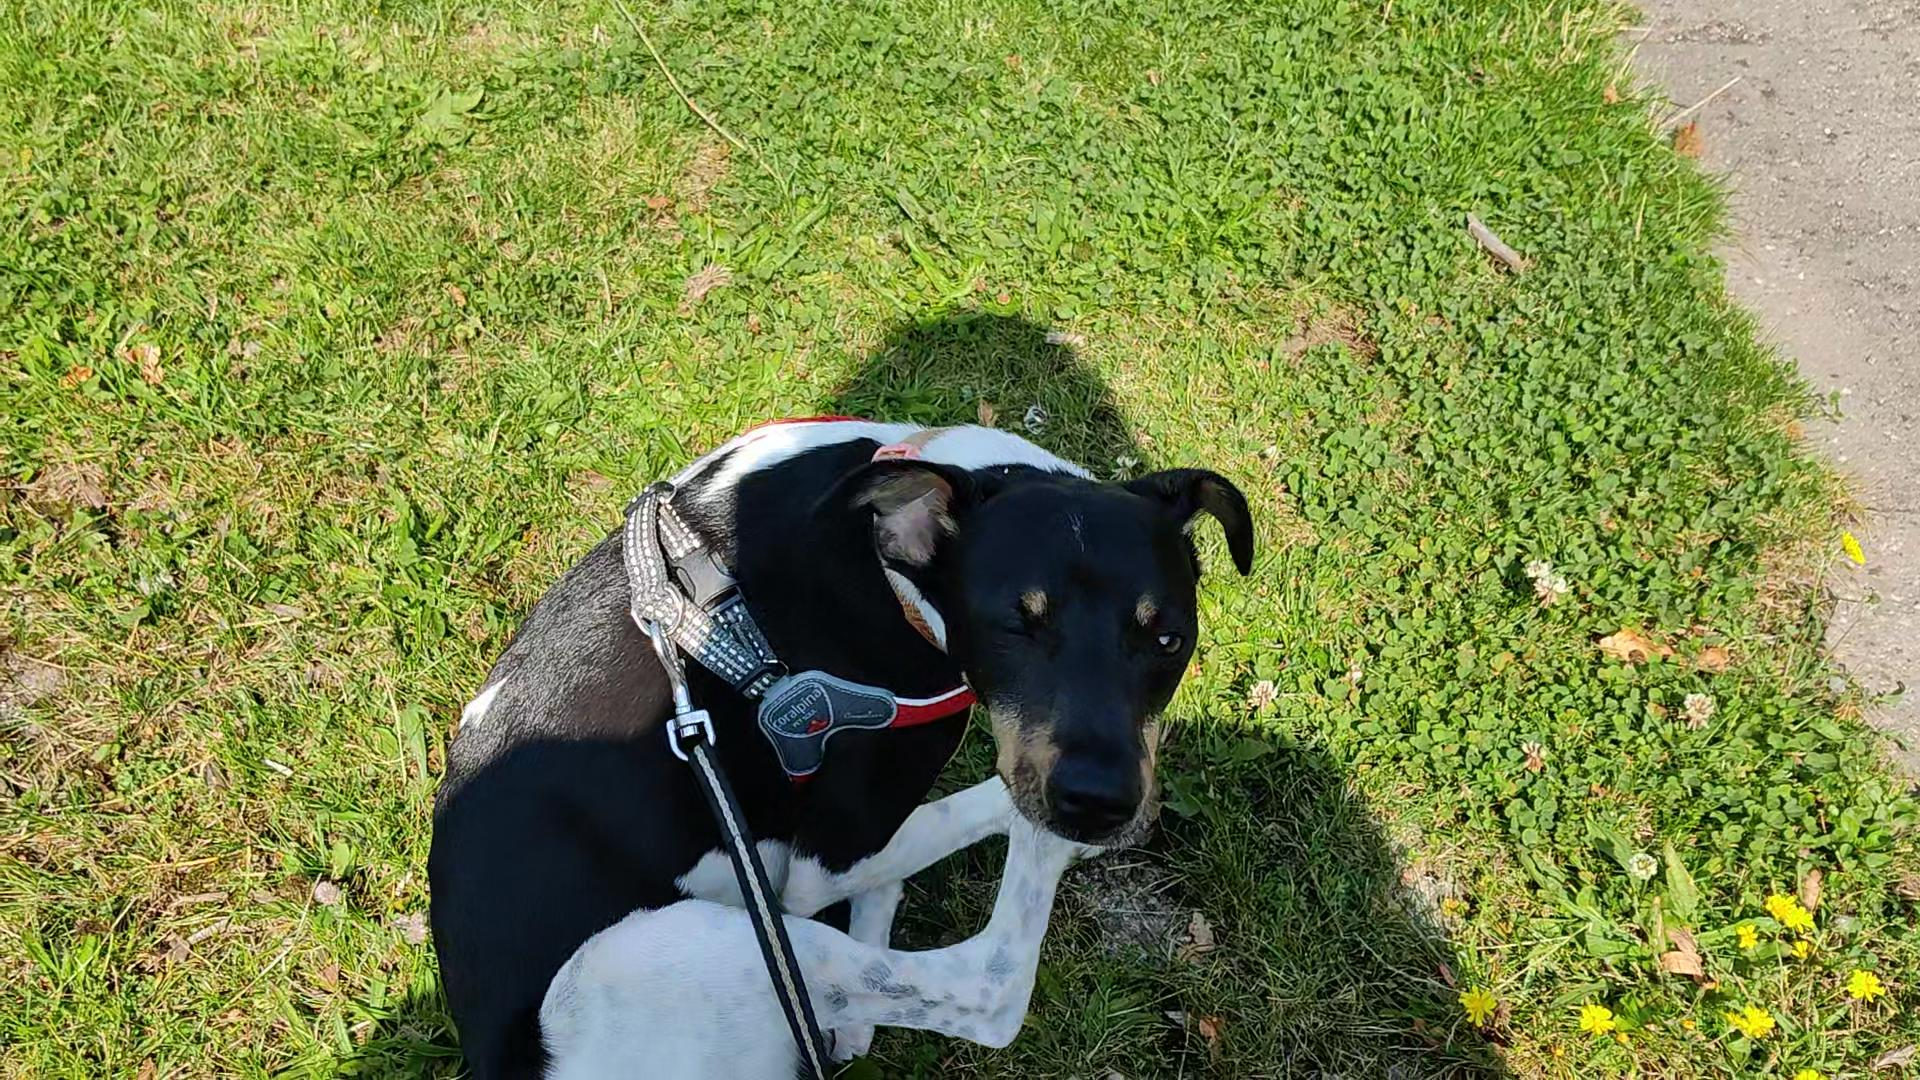Dog: (418, 405, 1261, 1079)
